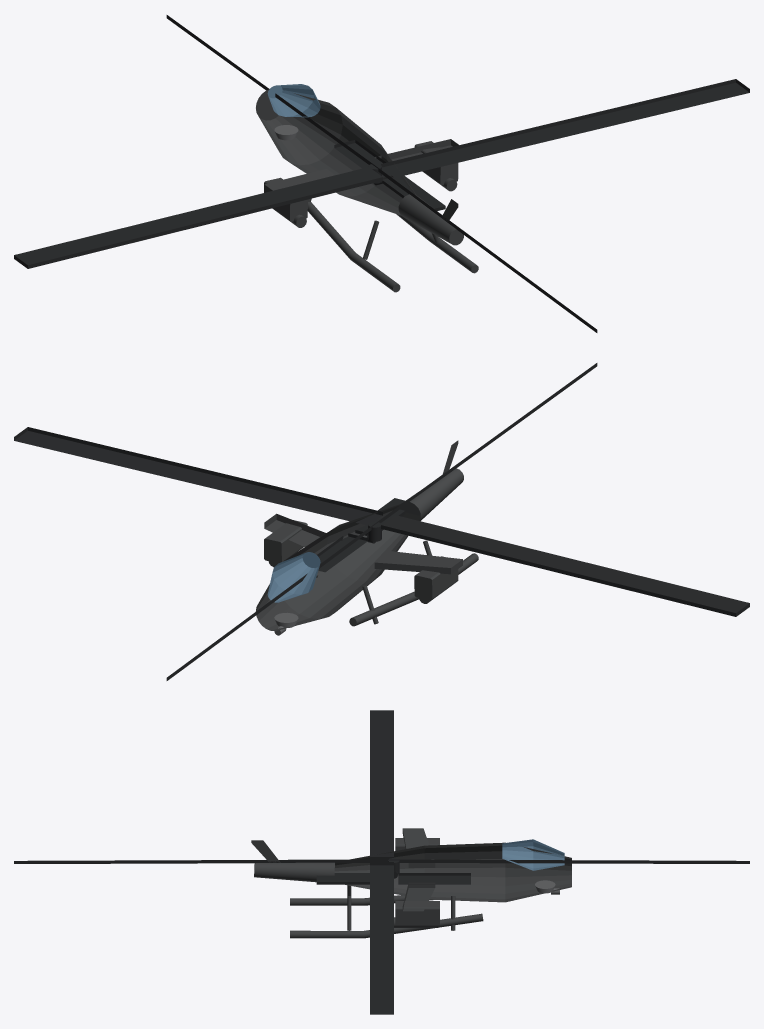
Rendered from streak_gunship.glb.
The picture shows the model from 3 angles, top to bottom: view 1: azimuth 30°, elevation 25°; view 2: azimuth 150°, elevation 25°; view 3: azimuth 270°, elevation 25°; orthographic projection. The views are drawn at different scales.
Visible parts, largest first — view 1: streak_gunship__mainRotor, streak_gunship__streak_gunship, streak_gunship__tailRotor, streak_gunship__cockpit; view 2: streak_gunship__mainRotor, streak_gunship__streak_gunship, streak_gunship__cockpit, streak_gunship__tailRotor; view 3: streak_gunship__streak_gunship, streak_gunship__mainRotor, streak_gunship__tailRotor, streak_gunship__cockpit.
Boxes of the visible parts, x1,y1,x2,y2 form: streak_gunship__mainRotor: (14, 15, 749, 332); streak_gunship__streak_gunship: (256, 89, 478, 292); streak_gunship__tailRotor: (334, 140, 445, 210); streak_gunship__cockpit: (267, 84, 320, 117); streak_gunship__mainRotor: (14, 363, 749, 680); streak_gunship__streak_gunship: (256, 440, 478, 631); streak_gunship__cockpit: (267, 552, 320, 602); streak_gunship__tailRotor: (317, 498, 405, 572); streak_gunship__streak_gunship: (251, 828, 571, 938); streak_gunship__mainRotor: (14, 710, 749, 1014); streak_gunship__tailRotor: (316, 871, 470, 884); streak_gunship__cockpit: (502, 839, 564, 870).
Bounding box in the file's own units: 4.8 × 0.606 × 4.96.
